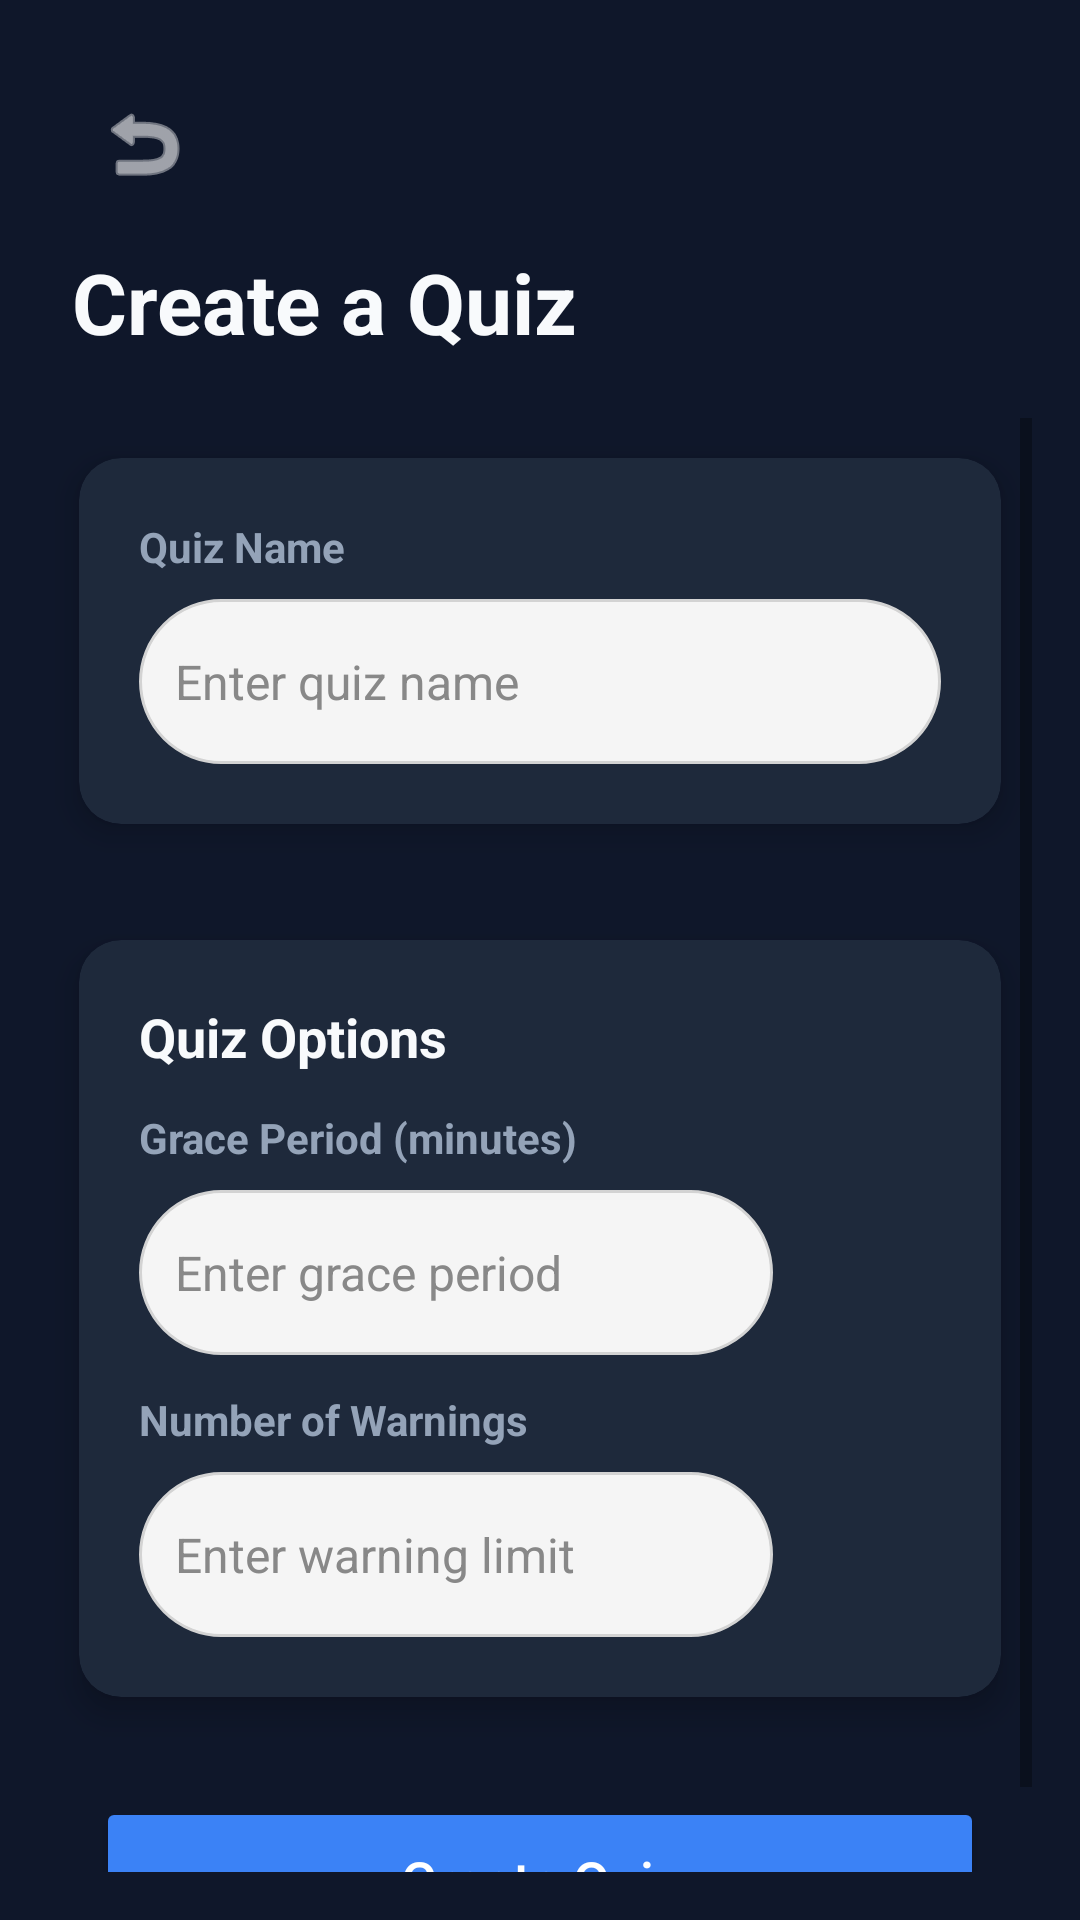

Screen size 1080*1920. Icon name, then its box in pixels as {"x1": x1, "y1": y1, "x2": x2, "y2": y2}:
Back: {"x1": 111, "y1": 113, "x2": 180, "y2": 176}
